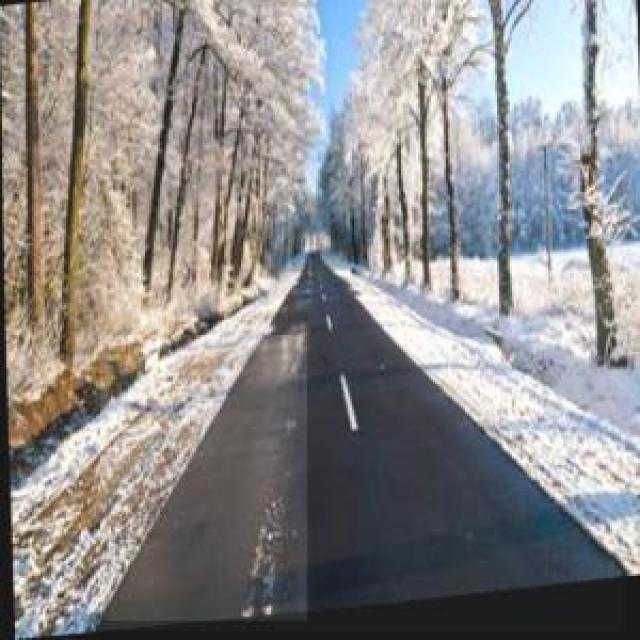clear-road: (97, 267, 625, 631)
ice-road: (102, 336, 307, 621)
